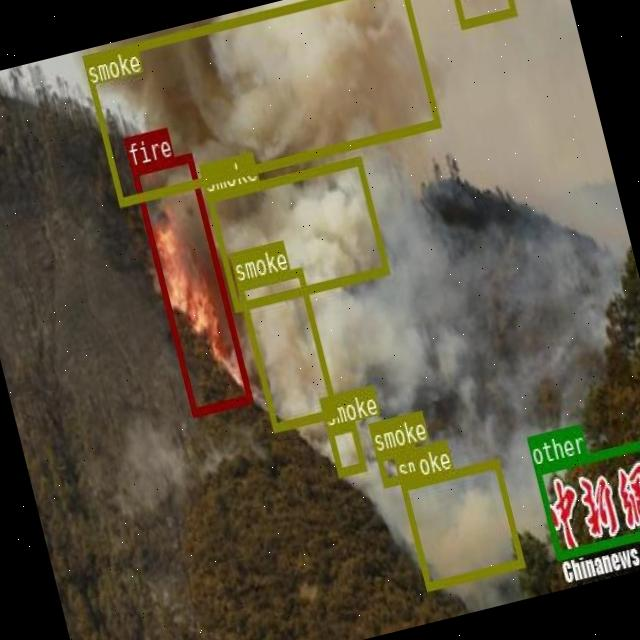fire: (130, 152, 252, 416)
smoke: (82, 0, 439, 204), (206, 156, 388, 310), (236, 266, 337, 430), (400, 458, 522, 590), (325, 420, 365, 476), (374, 442, 420, 486), (445, 0, 515, 27)
